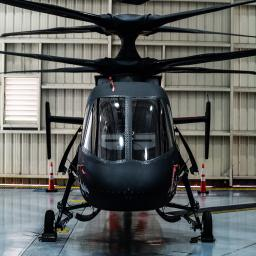helicopter: (1, 1, 251, 241)
